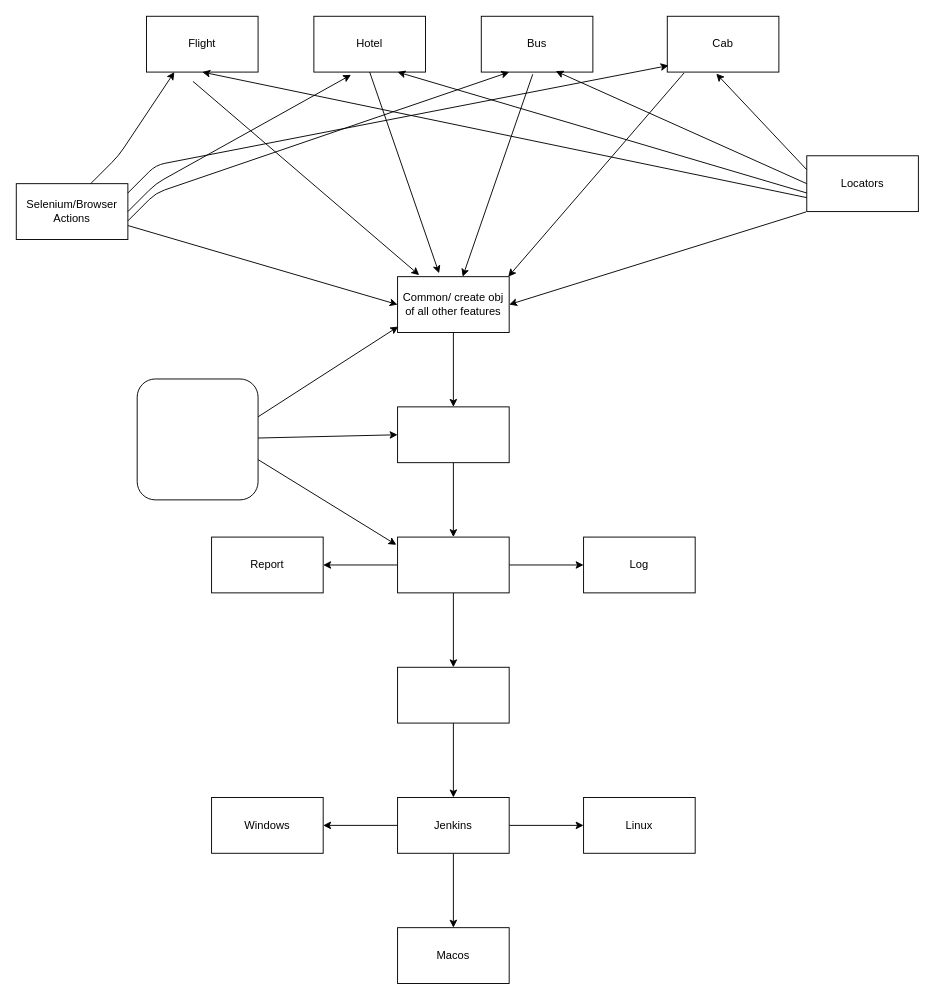
Image size: 935x1000. Some labels were removed from this diagram. The centre of each missing label's shape, as x and y in pixels:
"Conftest/Fixture" belongs at pixel 453 434.
"Github" belongs at pixel 453 694.
"Test Cases" belongs at pixel 453 564.
"Test Data/variables /excel/python/json" belongs at pixel 197 439.
